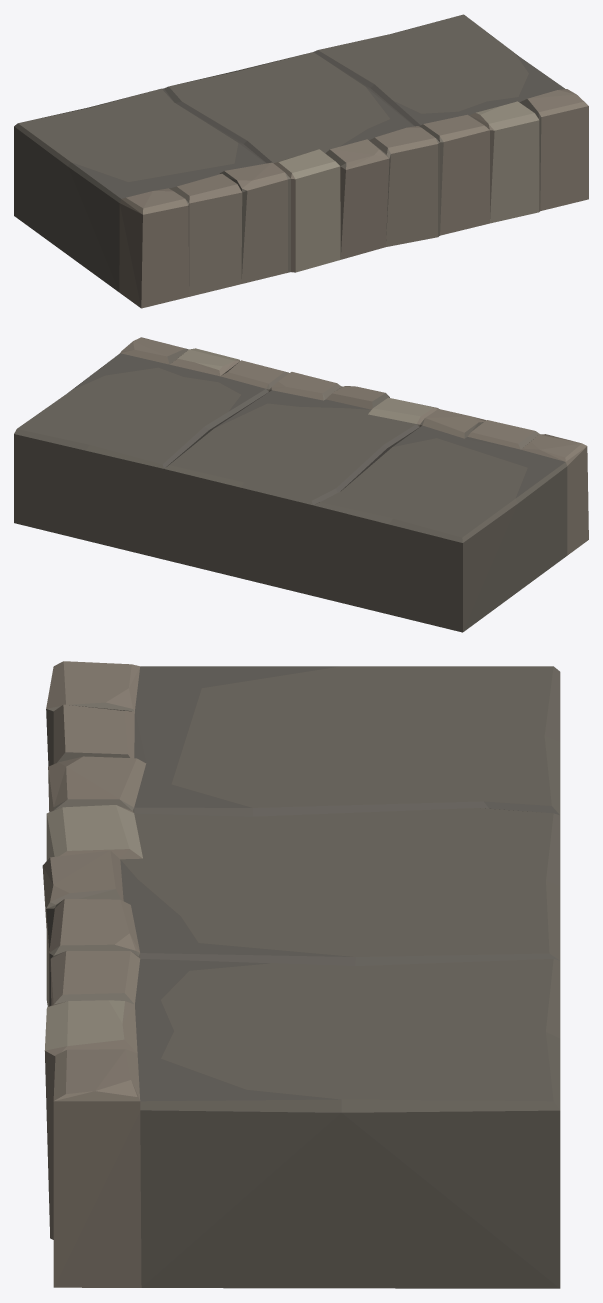
File: SM_Env_Sidewalk_Straight_01.glb
The picture shows the model from 3 angles, top to bottom: view 1: azimuth 30°, elevation 25°; view 2: azimuth 150°, elevation 25°; view 3: azimuth 270°, elevation 25°; orthographic projection. The views are drawn at different scales.
Parts seen in each view (by area): view 1: SM_Env_Sidewalk_Straight_01; view 2: SM_Env_Sidewalk_Straight_01; view 3: SM_Env_Sidewalk_Straight_01.
Part boxes in pixels (bbox=[...]): SM_Env_Sidewalk_Straight_01: bbox=[14, 14, 588, 308]; SM_Env_Sidewalk_Straight_01: bbox=[14, 337, 588, 632]; SM_Env_Sidewalk_Straight_01: bbox=[42, 661, 560, 1288].
Bounding box in the file's own units: 5.07 × 1.06 × 2.52.
1 material, 1 textured.
